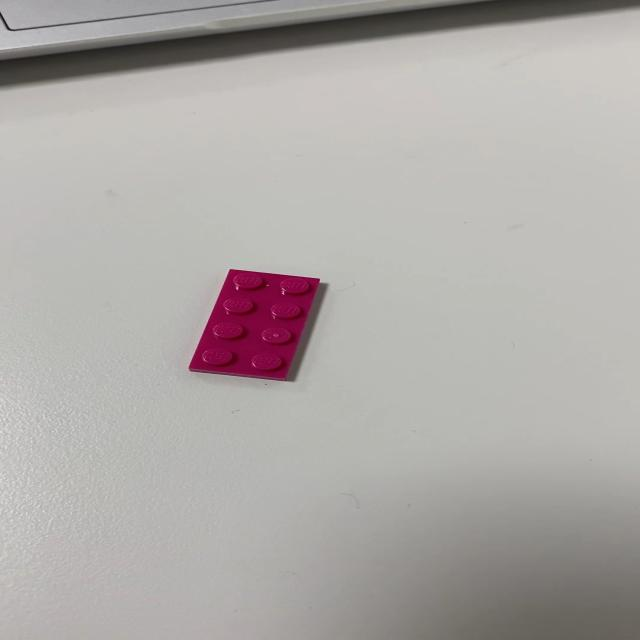C4x2x0: (188, 268, 322, 382)
